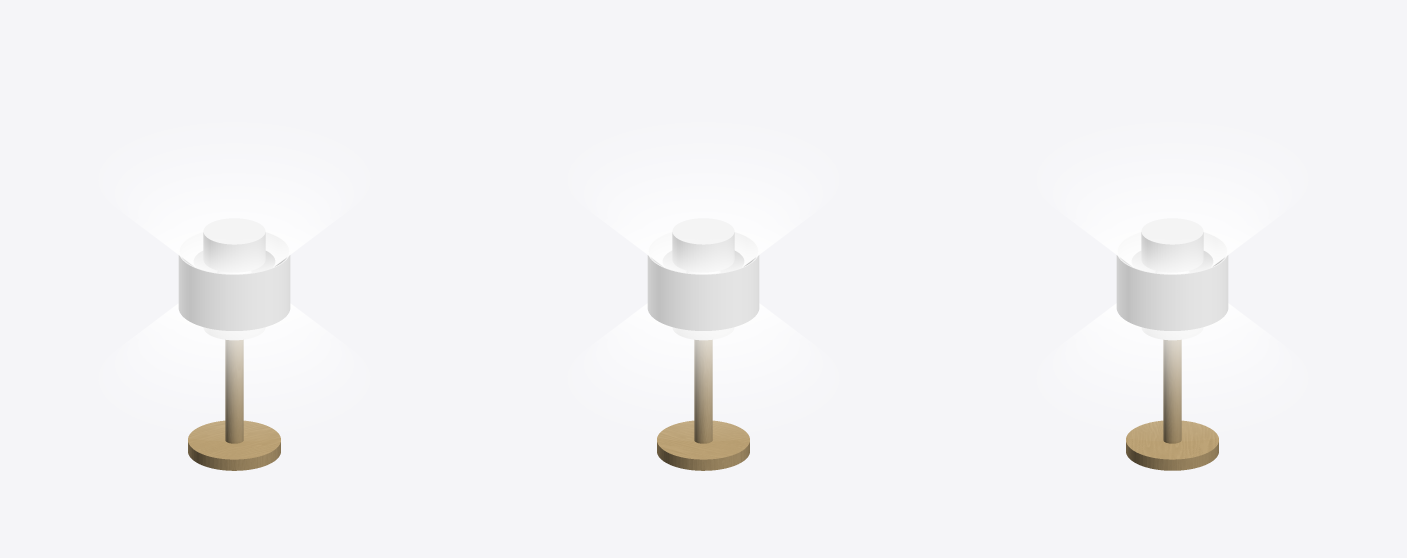
File: WHITE_ON.glb
3 views of the same model, side by side, from view 1: azimuth 30°, elevation 25°; view 2: azimuth 150°, elevation 25°; view 3: azimuth 270°, elevation 25° (orthographic).
Visible parts, largest first — view 1: LIGHT_UP, LIGHT_DOWN, SHELL, BASE, INNER_TOP; view 2: LIGHT_UP, LIGHT_DOWN, SHELL, BASE, INNER_TOP; view 3: LIGHT_UP, LIGHT_DOWN, SHELL, BASE, INNER_TOP.
Boxes of the visible parts, left/top/right/bottom form: LIGHT_UP: left=115, top=143, right=353, bottom=274; LIGHT_DOWN: left=115, top=303, right=353, bottom=414; SHELL: left=178, top=232, right=290, bottom=330; BASE: left=188, top=340, right=280, bottom=470; INNER_TOP: left=203, top=218, right=265, bottom=272; LIGHT_UP: left=584, top=143, right=822, bottom=274; LIGHT_DOWN: left=584, top=303, right=822, bottom=414; SHELL: left=647, top=232, right=759, bottom=330; BASE: left=657, top=340, right=749, bottom=470; INNER_TOP: left=672, top=218, right=734, bottom=272; LIGHT_UP: left=1053, top=143, right=1291, bottom=274; LIGHT_DOWN: left=1053, top=303, right=1291, bottom=414; SHELL: left=1116, top=232, right=1228, bottom=330; BASE: left=1126, top=340, right=1218, bottom=470; INNER_TOP: left=1141, top=218, right=1203, bottom=272.
Bounding box in the file's own units: 0.7082 × 0.6108 × 0.7082.
4 materials, 4 textured.
